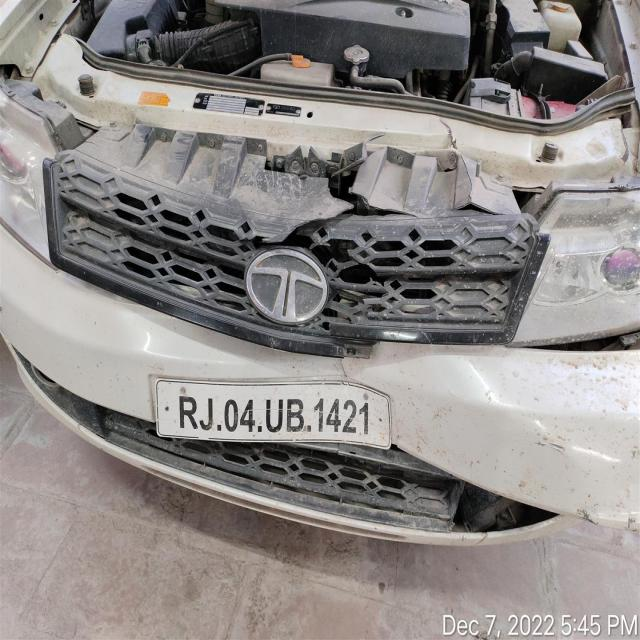damage: (327, 317, 640, 527), (262, 136, 556, 291), (432, 113, 635, 192)
